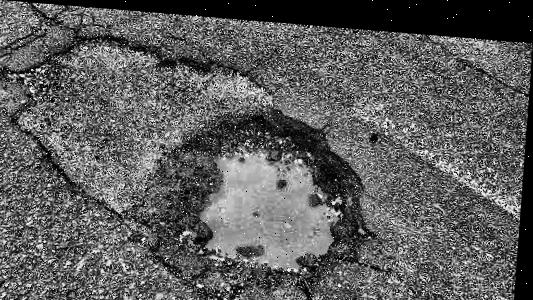pothole: (173, 94, 380, 289)
